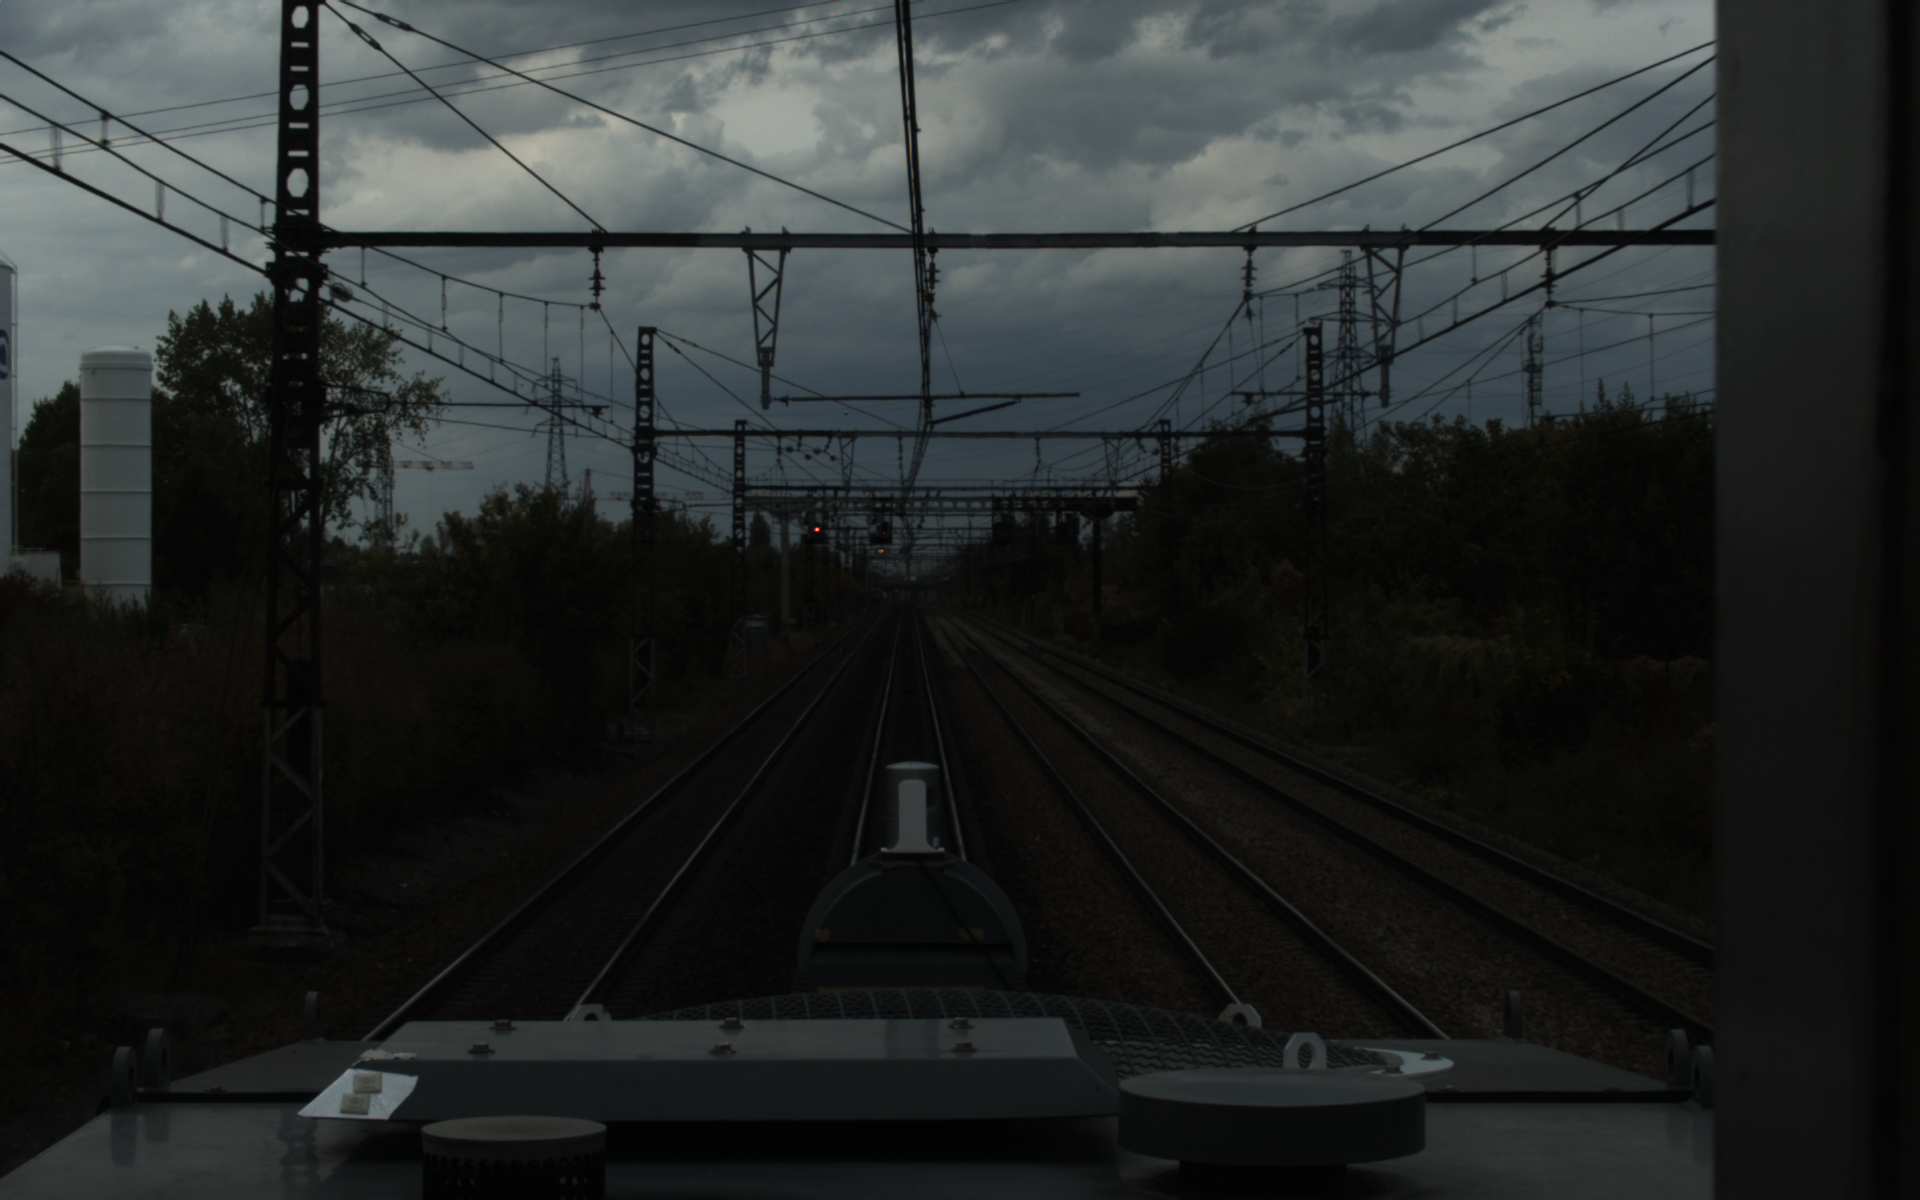Blinking: (879, 518, 890, 538)
Fixed: (809, 520, 822, 539)
